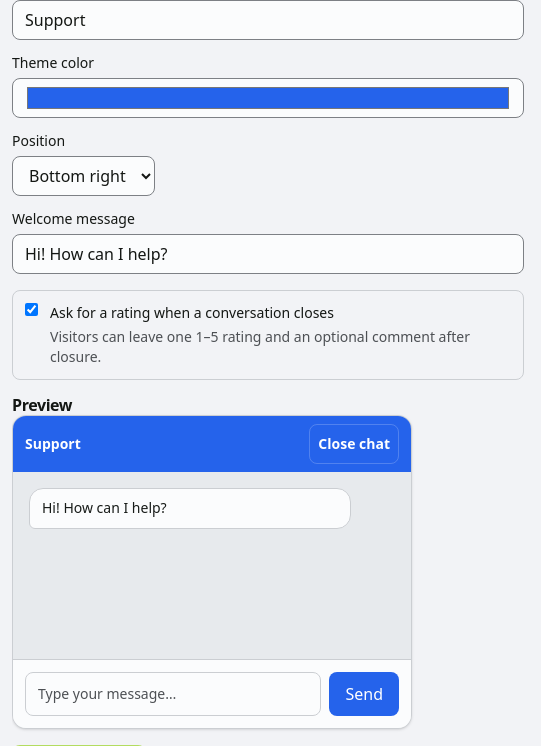
Test: BotAppearanceForm › saves the conversation rating toggle
Click the checkbox: click(32, 310) [25,303,38,316]
(page scrolled)
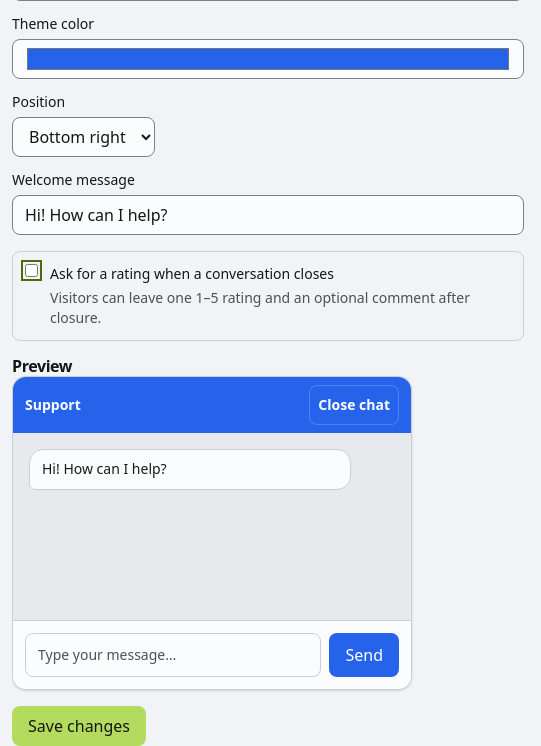
Click the button "Save changes": click(79, 726) [12,706,146,745]
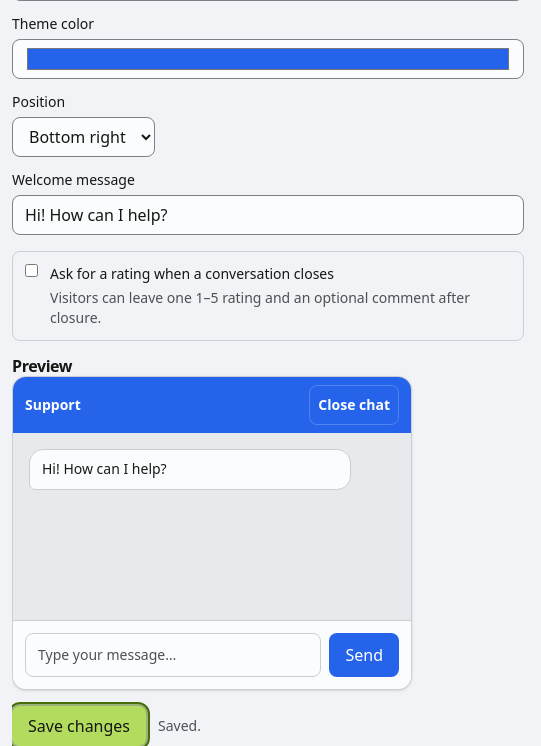
Now the text "Saved." is shown, box [158,716,201,736]
